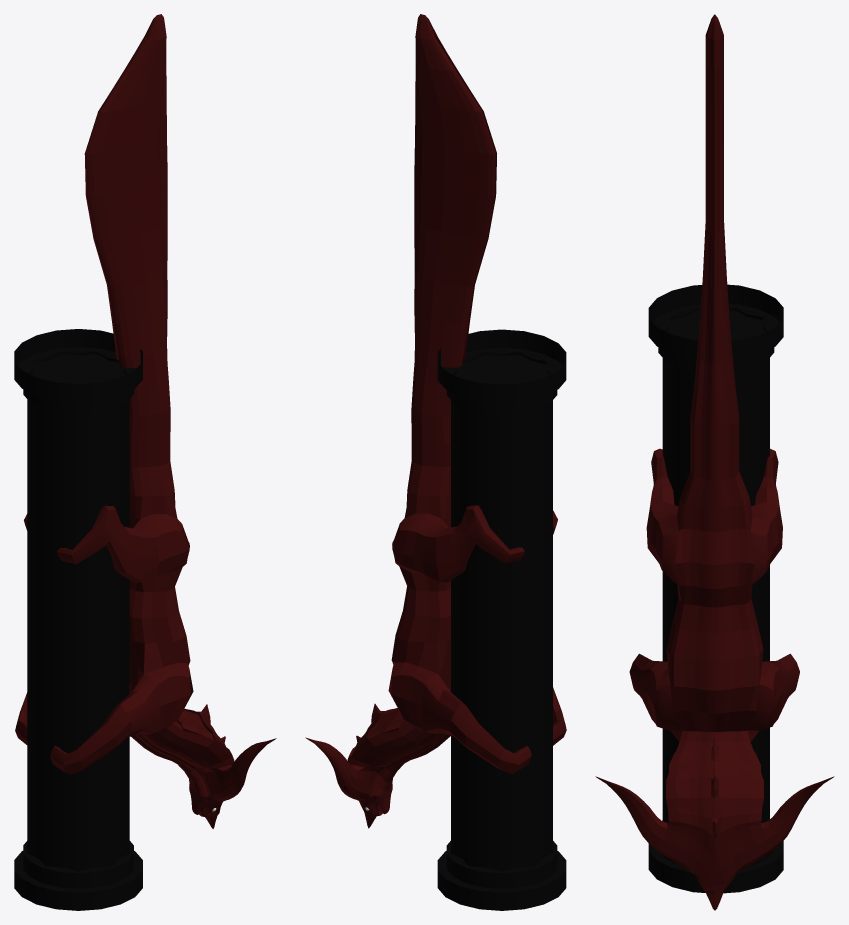
File: Fantasy_NewNewt_Unchecked_ND.fbx
3 views of the same model, side by side, from view 1: azimuth 30°, elevation 25°; view 2: azimuth 150°, elevation 25°; view 3: azimuth 270°, elevation 25° (orthographic). The views are drawn at different scales.
Parts seen in each view (by area): view 1: Newt_Head001, Pilllar_Middle, Pillar_Top, Pillar_Top1; view 2: Newt_Head001, Pilllar_Middle, Pillar_Top, Pillar_Top1; view 3: Newt_Head001, Pilllar_Middle, Pillar_Top, Pillar_Top1.
Part boxes in pixels (<box>): Newt_Head001: <box>15,14,276,828</box>; Pilllar_Middle: <box>27,351,129,871</box>; Pillar_Top: <box>14,329,142,413</box>; Pillar_Top1: <box>14,841,142,910</box>; Newt_Head001: <box>305,14,566,828</box>; Pilllar_Middle: <box>451,352,552,871</box>; Pillar_Top: <box>437,329,566,414</box>; Pillar_Top1: <box>437,841,566,910</box>; Newt_Head001: <box>595,14,834,910</box>; Pilllar_Middle: <box>662,307,769,822</box>; Pillar_Top: <box>648,284,783,371</box>; Pillar_Top1: <box>648,820,783,893</box>.
Bounding box in the file's own units: 101 × 405 × 98.93.
